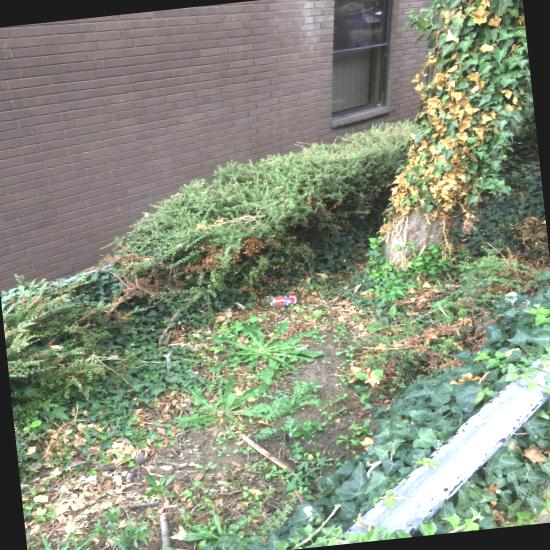Drink can: (270, 295, 297, 307)
